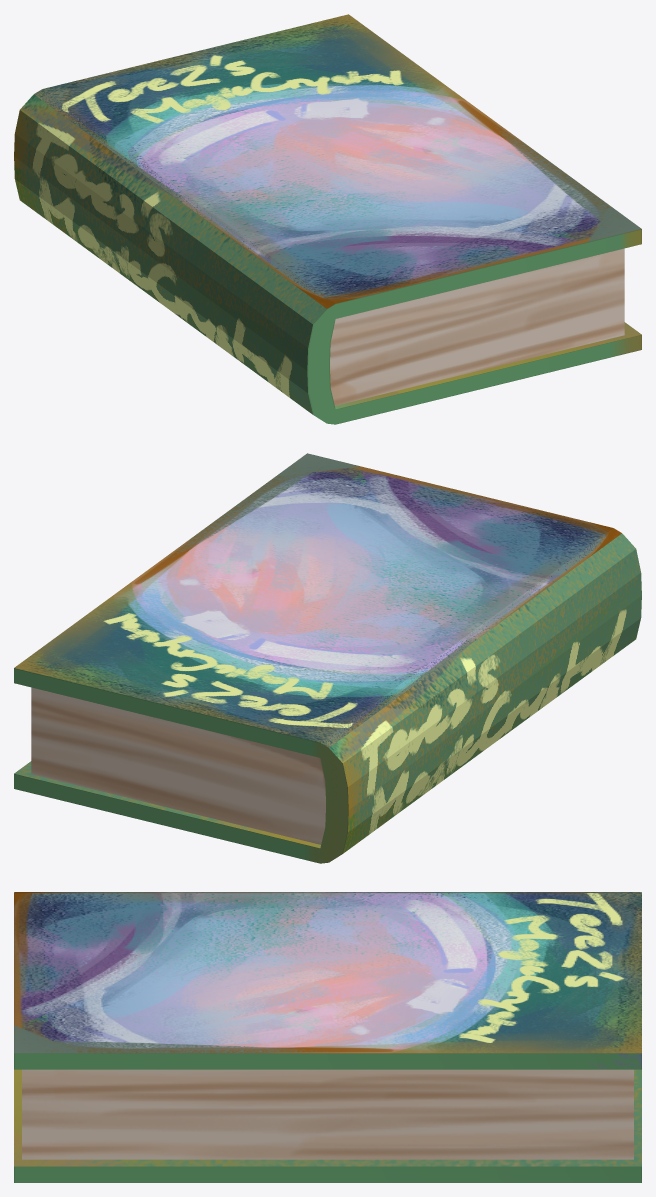
Rendered from Crystal_StoryBook.fbx.
3 views of the same model, one above another, from view 1: azimuth 30°, elevation 25°; view 2: azimuth 150°, elevation 25°; view 3: azimuth 270°, elevation 25° (orthographic). The views are drawn at different scales.
Parts seen in each view (by area): view 1: Crystal_StoryBook; view 2: Crystal_StoryBook; view 3: Crystal_StoryBook.
Part boxes in pixels (x1,y1,x2,y2): Crystal_StoryBook: (14,14,641,424); Crystal_StoryBook: (14,453,641,863); Crystal_StoryBook: (14,892,641,1182).
Size of the model in its own units: 32.19 by 11.11 by 48.85.
Materials: 1 (1 with a texture image).
